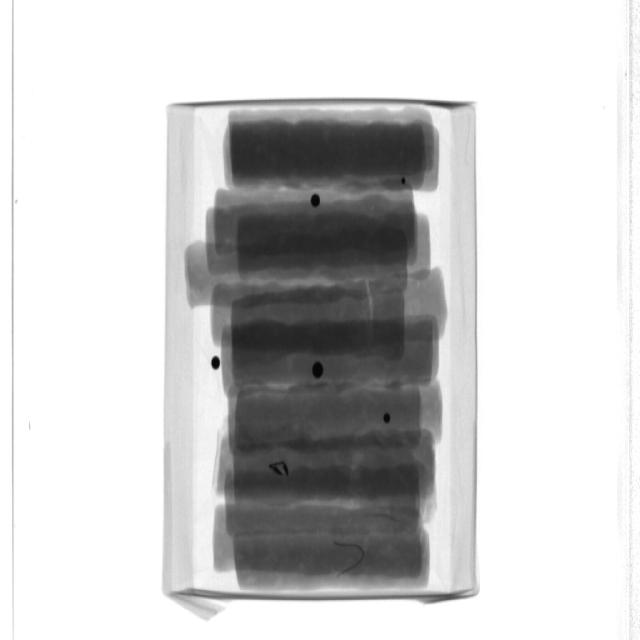ym: (337, 541, 365, 578), (312, 361, 326, 381), (271, 463, 290, 476), (312, 193, 322, 207), (213, 357, 221, 371), (384, 414, 392, 424), (400, 178, 407, 186)
